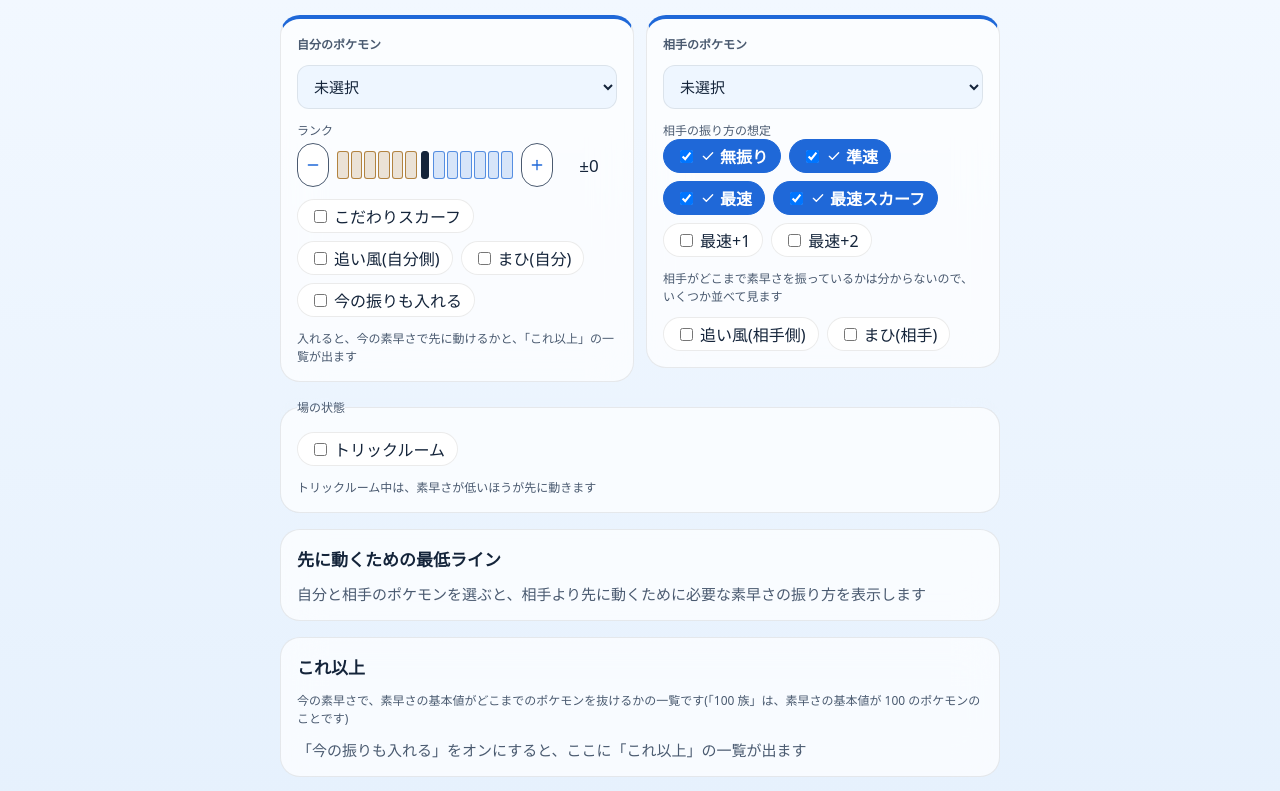
W5 想定ごとのカード(上を取る最低ライン) › 一言見出し: 補正なし 0 → 無振りで抜ける / 補正なしで足りる → 準速で抜ける / 上昇だけ → 最速なら S○ 以上
Select "テストカソウドリ" in the dropdown named "自分のポケモンを選ぶ" at (457, 87), box 297,65 -> 617,109
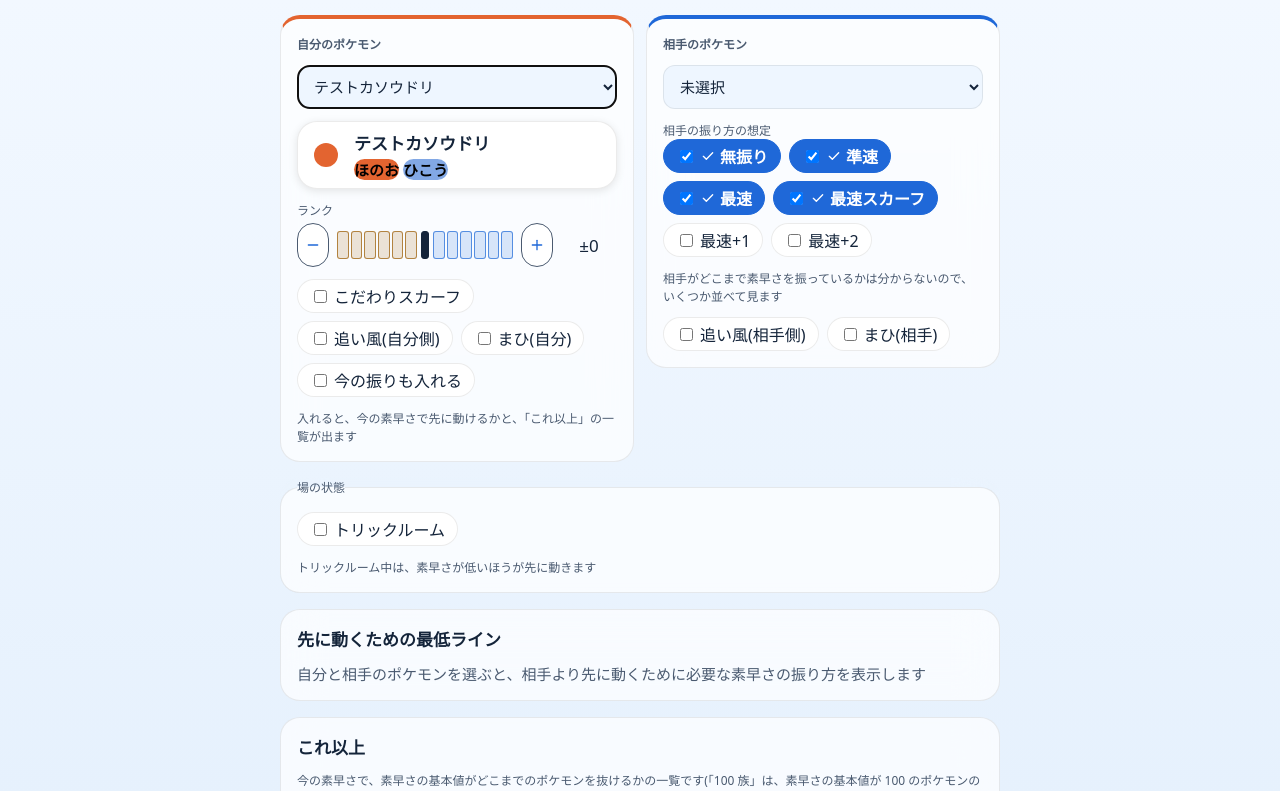
Select "テストカソウギョ" in the dropdown named "相手のポケモンを選ぶ" at (823, 87), box 663,65 -> 983,109
(page scrolled)
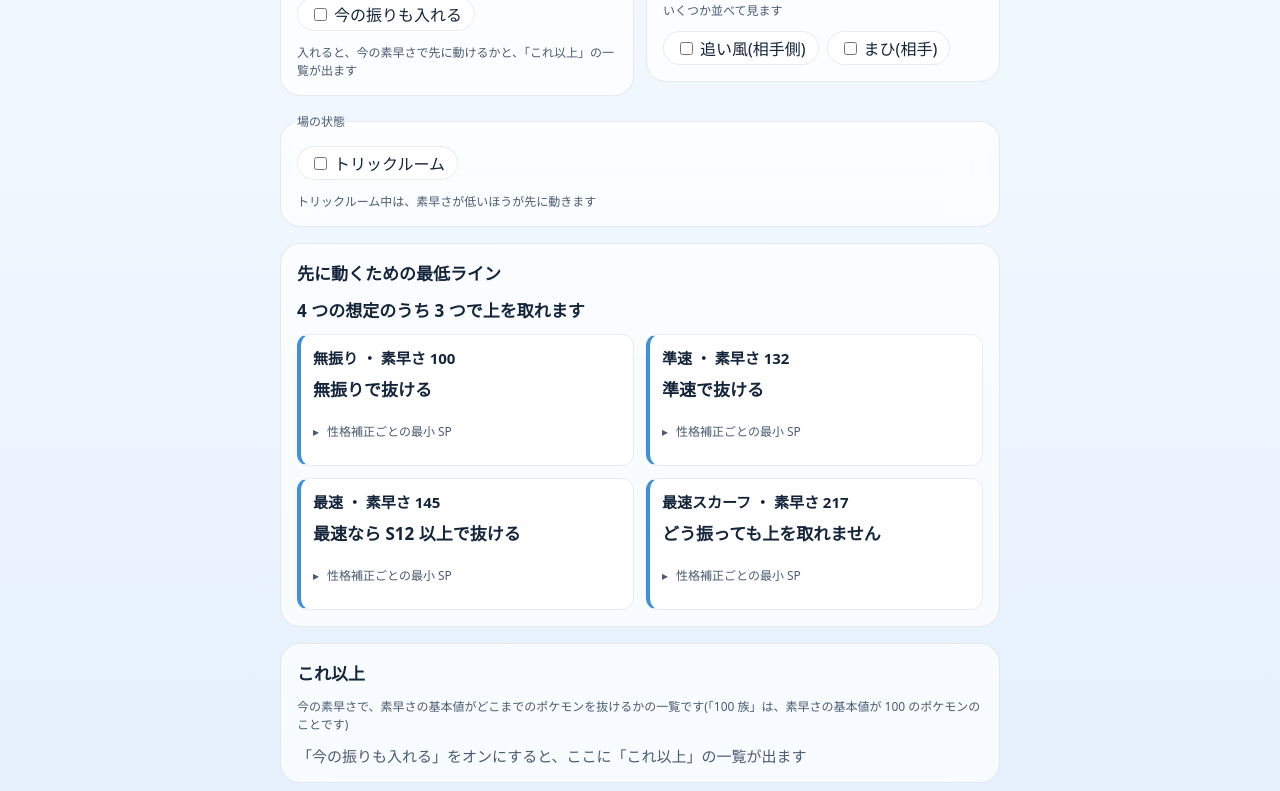
Result: the text with test id "speed-headline" reads "無振りで抜ける" at 313,378 -> 432,401
Result: the text with test id "speed-headline" reads "準速で抜ける" at 662,378 -> 764,401
